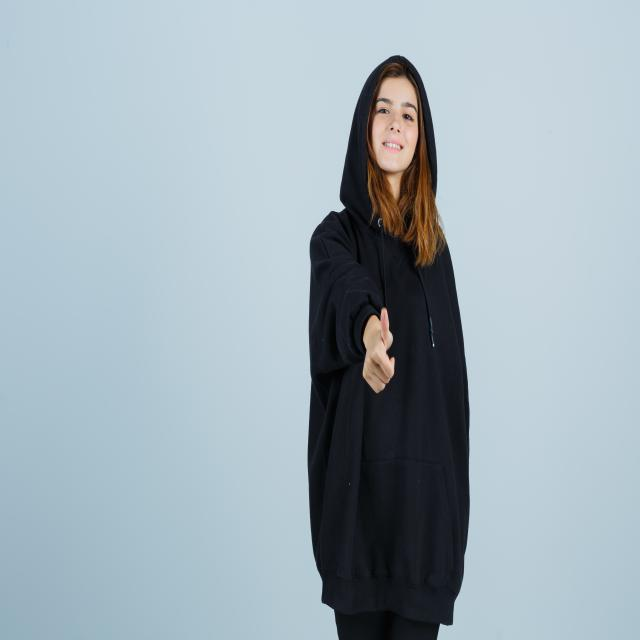4_capucha: (337, 49, 438, 244)
